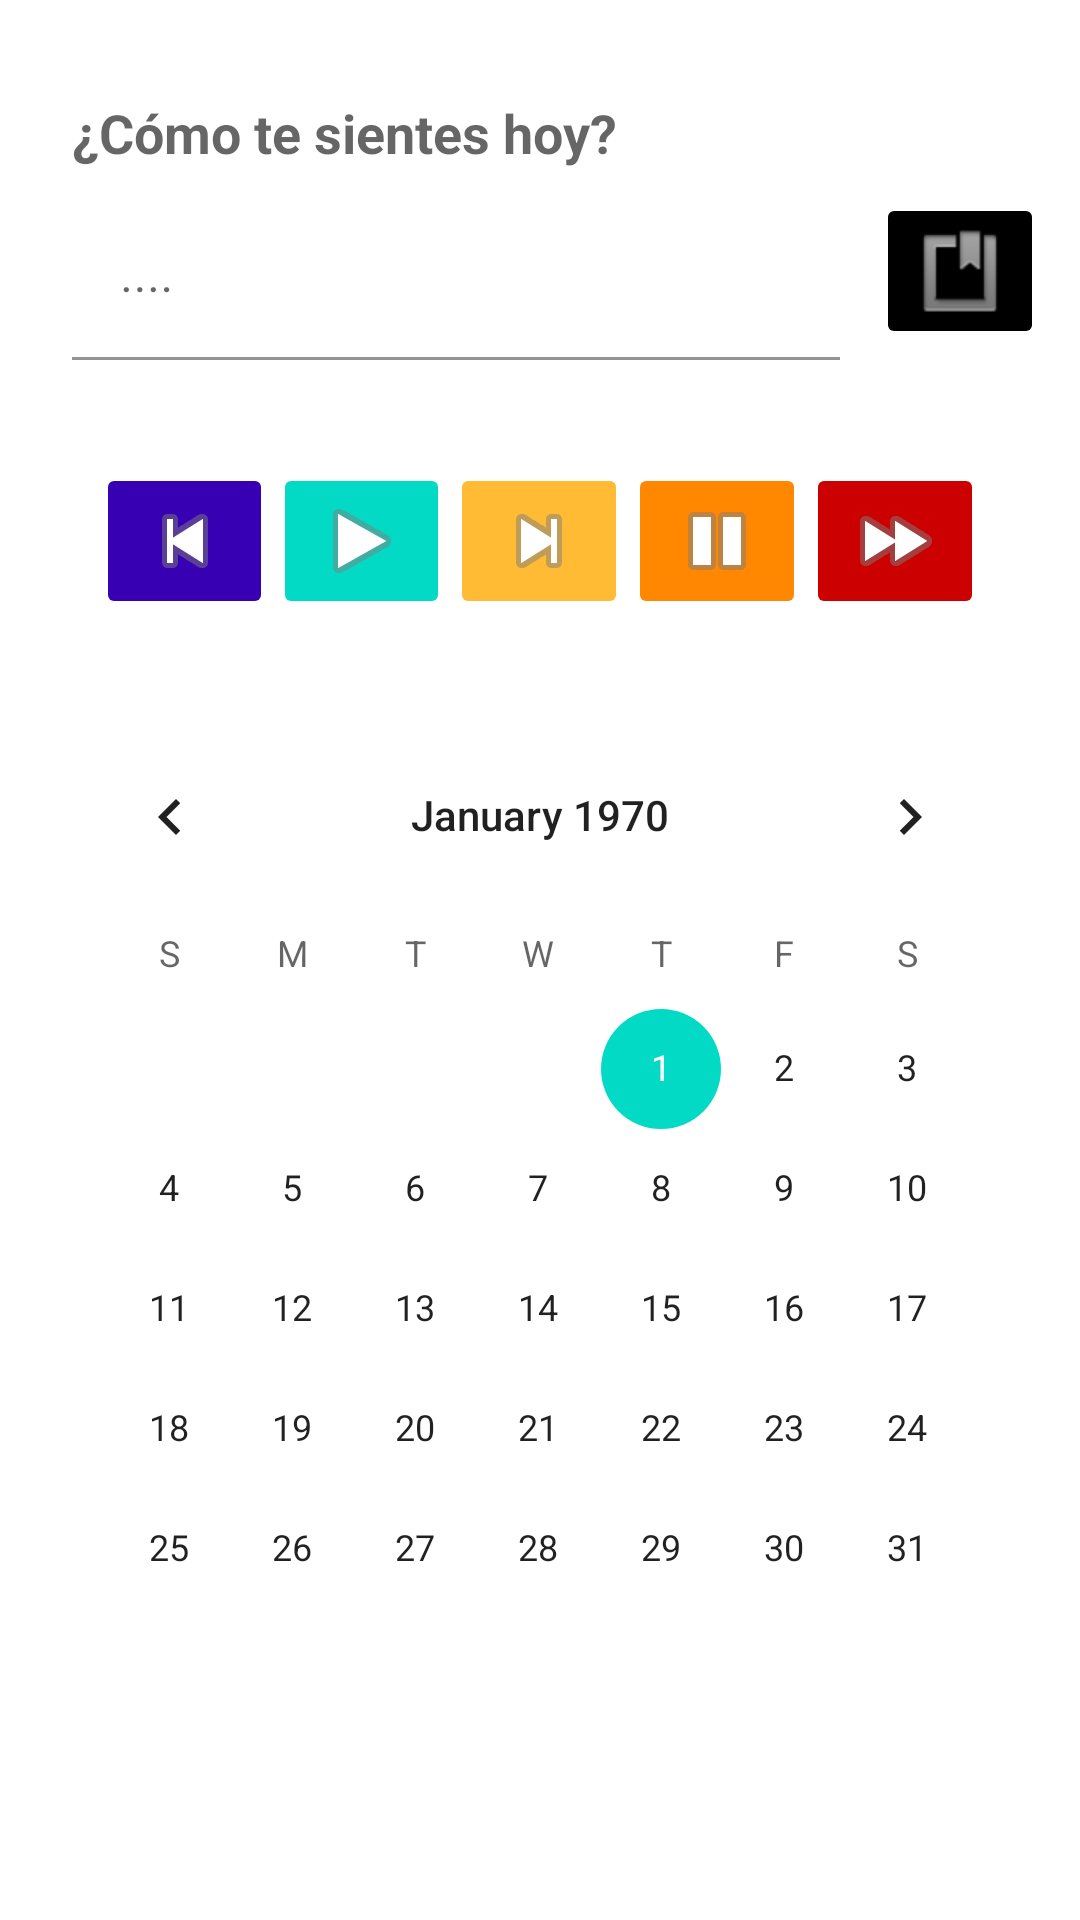

Named icons in this screenshot (1080 x 1920) and their centers, (x=x, y=y):
next: (x=539, y=541)
pause: (x=717, y=541)
play: (x=361, y=541)
previous: (x=184, y=541)
